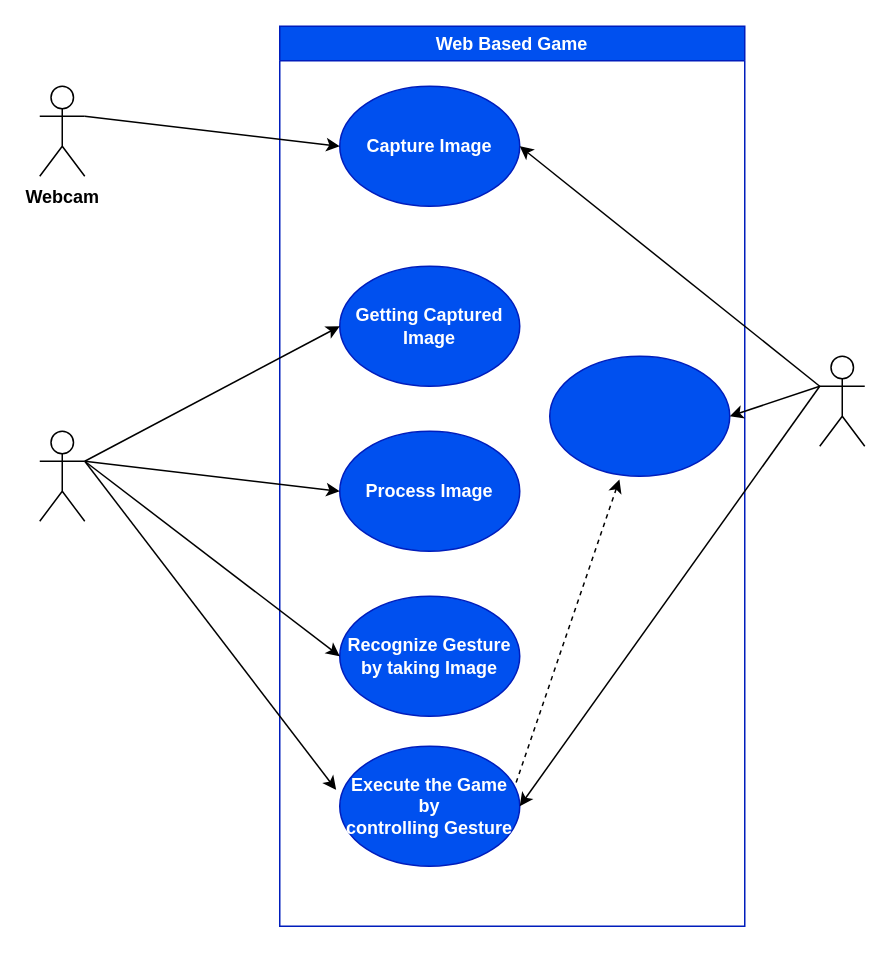
Some shapes in this 891 by 953 pixel diagram are drawn without their labels. The box of each missing label's shape, as (x1, y1, x2, y2) in pixels:
Activation the InOut Device: (548, 355, 730, 476)
System: (38, 430, 85, 521)
User: (818, 355, 865, 446)
